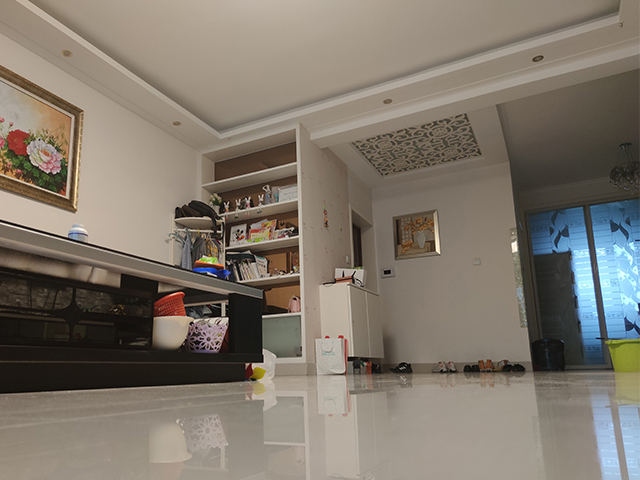cabinet: (264, 272, 332, 373)
table: (1, 219, 269, 399)
trashcan: (530, 336, 568, 372)
